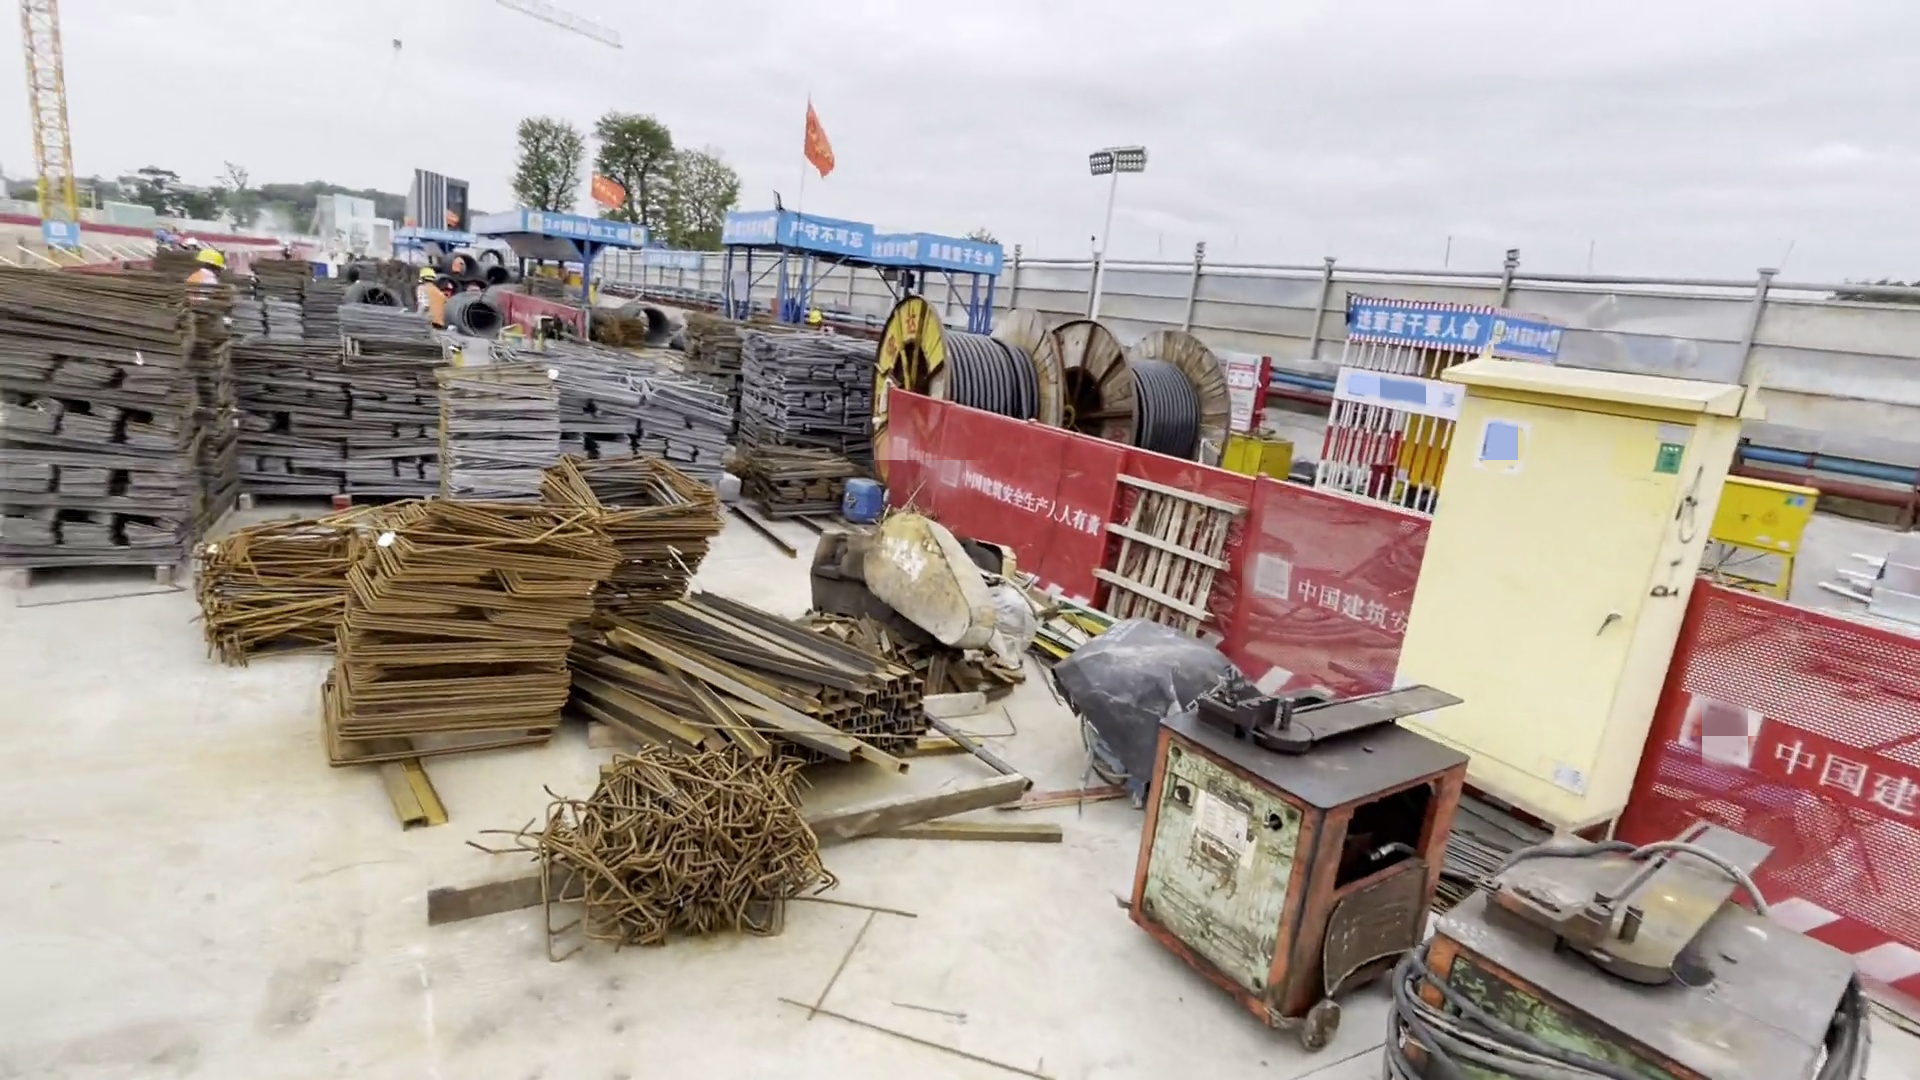ebox: (1376, 347, 1769, 846)
fence: (867, 379, 1419, 714), (1601, 557, 1920, 998)
helmet: (198, 249, 222, 267), (417, 266, 436, 283)
person: (180, 242, 229, 327), (417, 265, 451, 342)
slogan: (1350, 304, 1477, 351), (785, 215, 864, 248)
vest: (422, 283, 448, 325)
